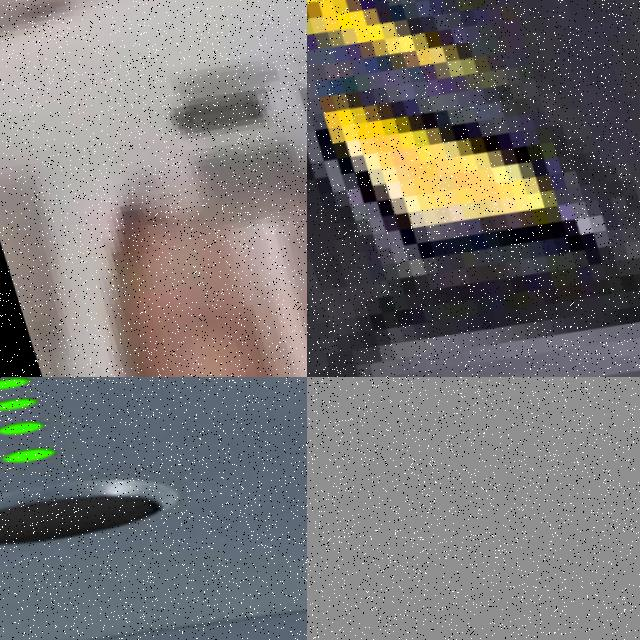drone: (307, 0, 640, 377), (0, 0, 307, 377), (0, 377, 307, 640)
